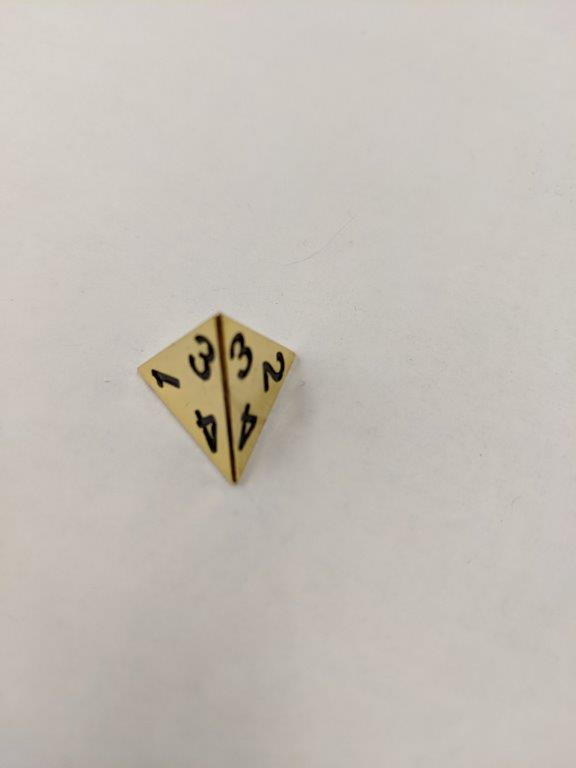d4-3: (135, 310, 303, 490)
